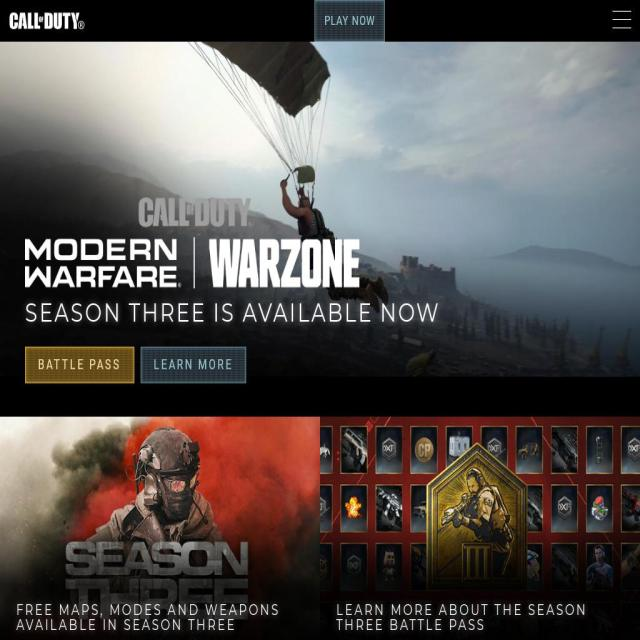button: (25, 347, 134, 383), (141, 347, 246, 383), (10, 0, 84, 42), (314, 0, 385, 42)
heading: (25, 299, 505, 326), (16, 602, 304, 634), (336, 602, 624, 634)
image: (0, 40, 637, 373), (318, 415, 639, 640), (0, 415, 319, 640), (25, 198, 359, 288), (10, 13, 84, 29)
text: (0, 0, 640, 417)
